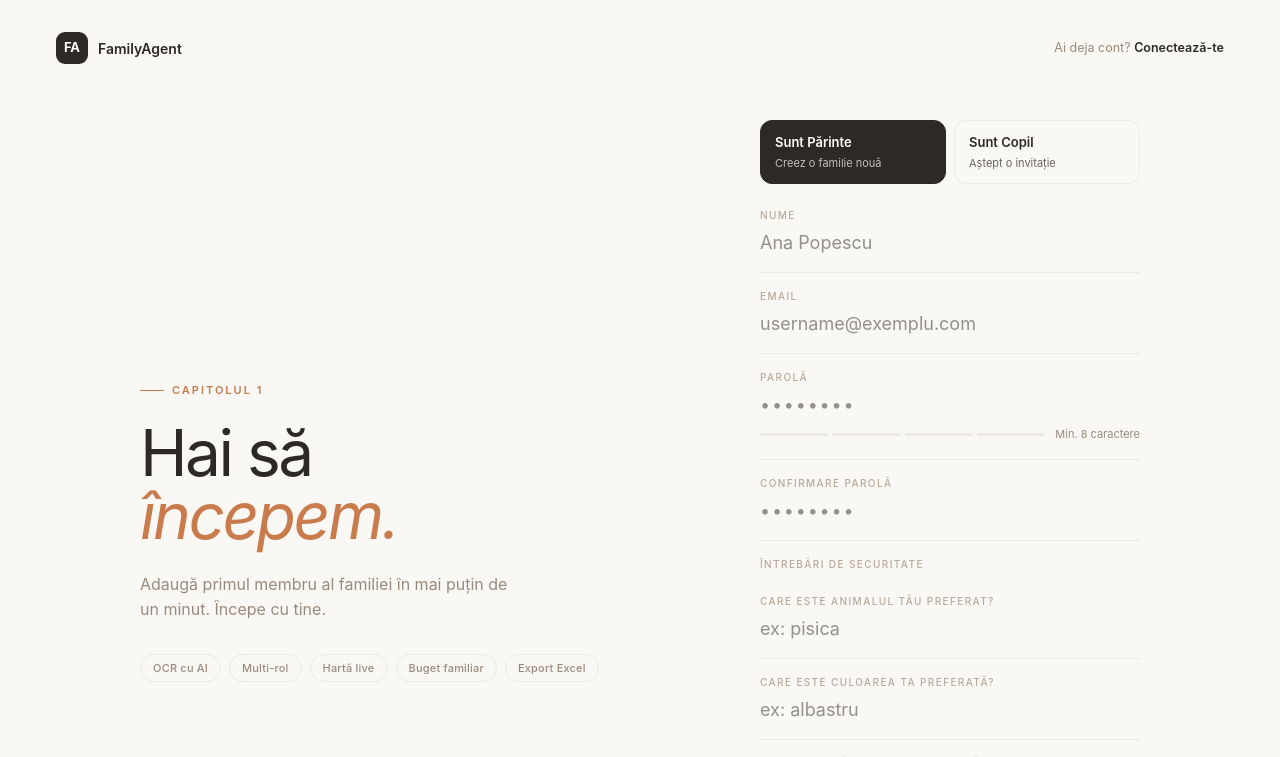
it: RegisterForm - 100% Coverage & Zero Errors › 6. Eroare 409: Email deja existent
Type "Test User" into the field with placeholder "Ana Popescu" at (950, 242), box [760,229,1140,256]
Type "test@example.com" into the field with placeholder "username@exemplu.com" at (950, 324), box [760,310,1140,337]
Type "Password123!" into the 1st password field with placeholder "••••••••" at (950, 404), box [760,391,1140,418]
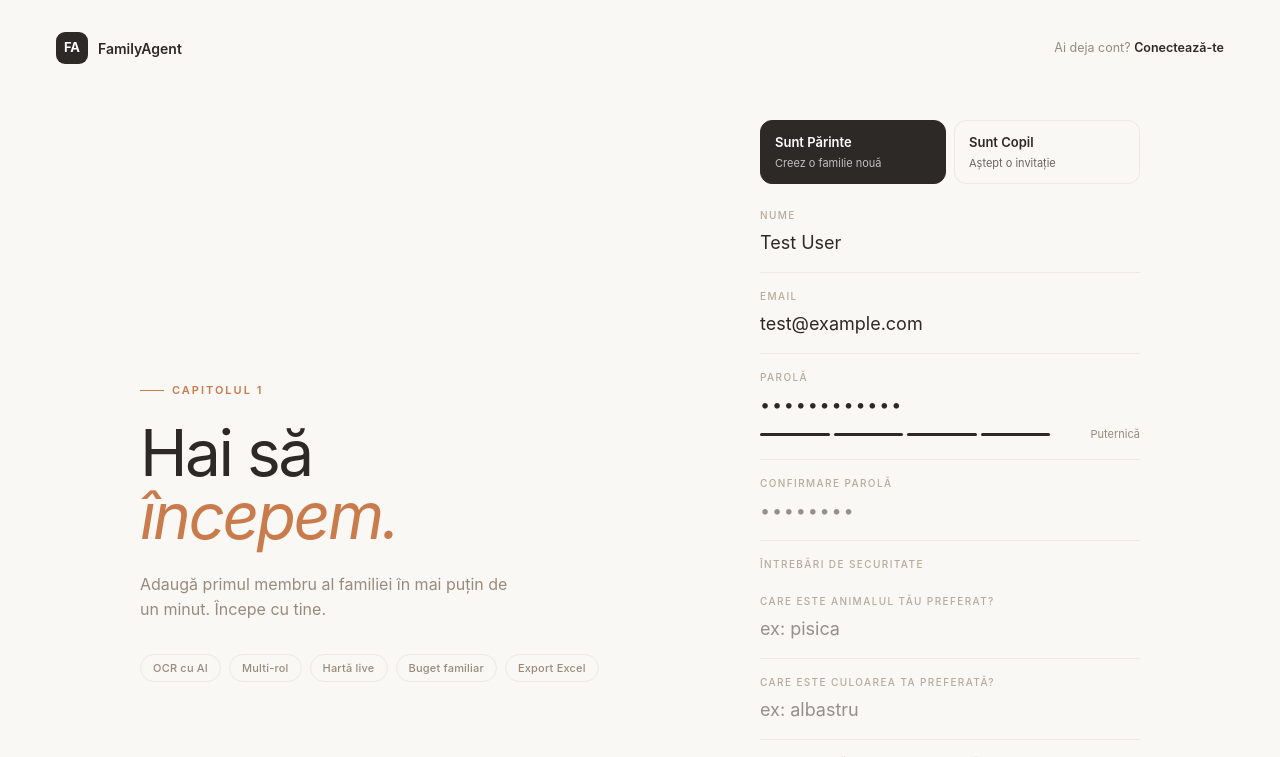
Type "Password123!" into the password field with placeholder "••••••••" at (950, 510), box [760,496,1140,524]
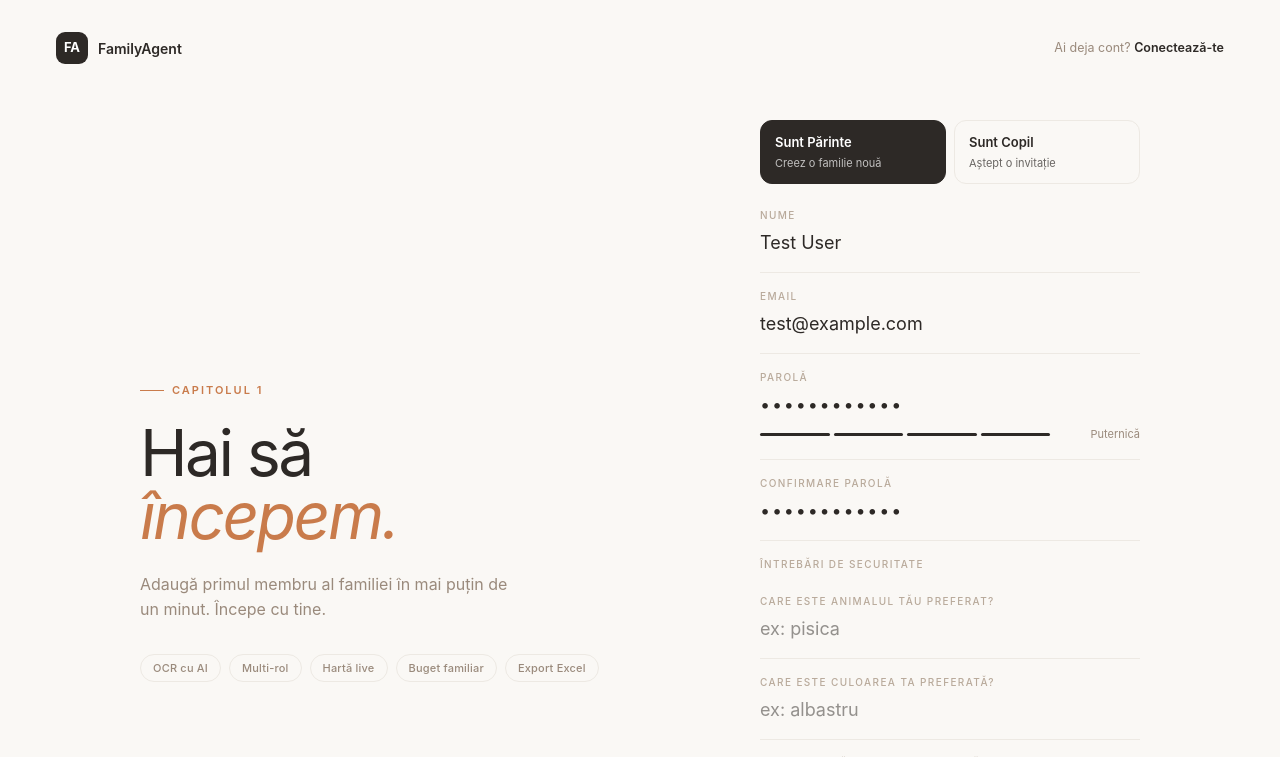
Type "Pisica" into the field with placeholder "ex: pisica" at (950, 628), box [760,614,1140,642]
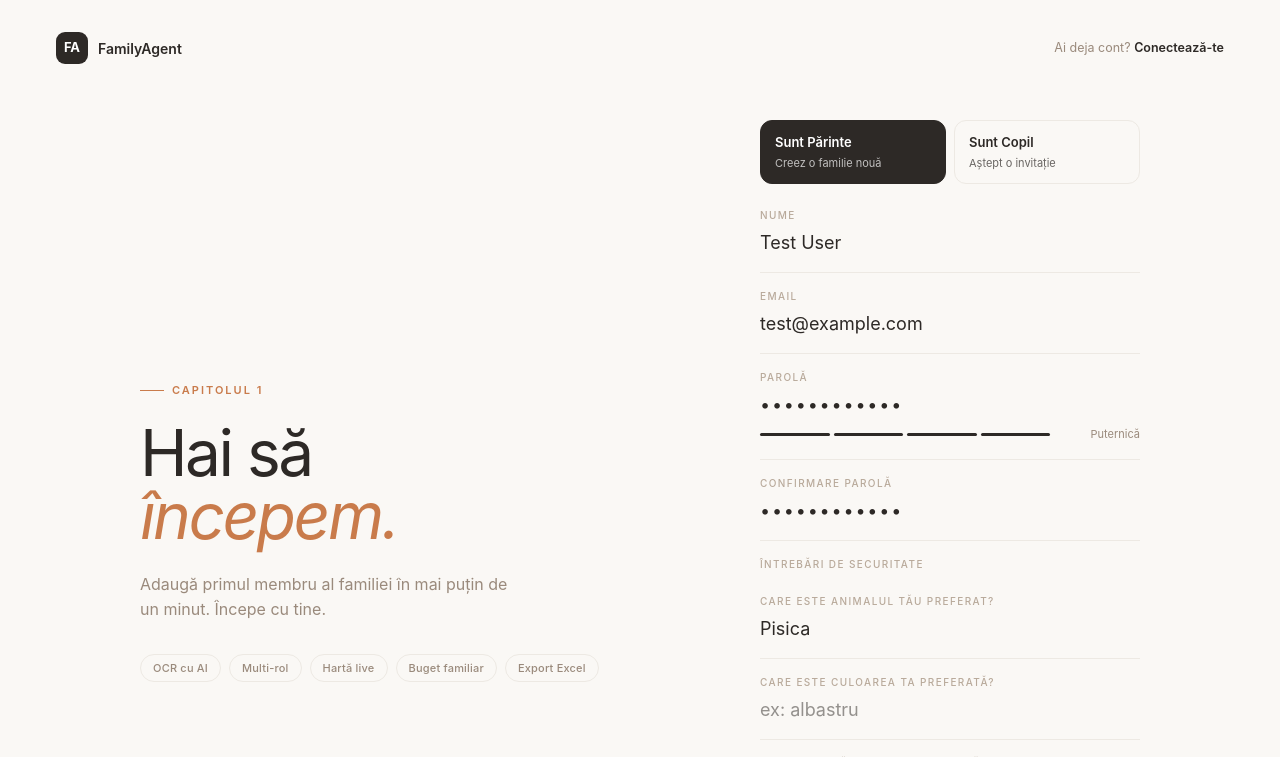
Type "Albastru" into the field with placeholder "ex: albastru" at (950, 709), box [760,696,1140,722]
(page scrolled)
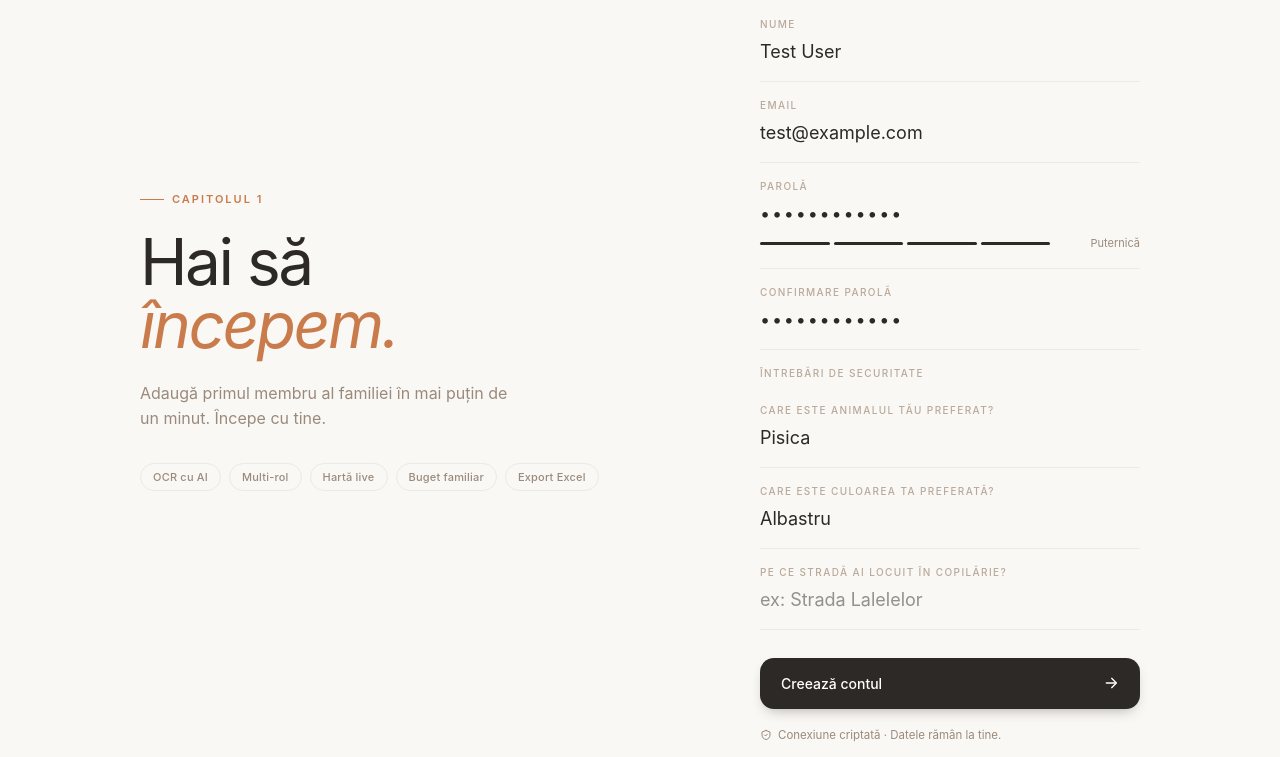
Type "Strada Lalelelor" into the field with placeholder "ex: Strada Lalelelor" at (950, 599), box [760,586,1140,612]
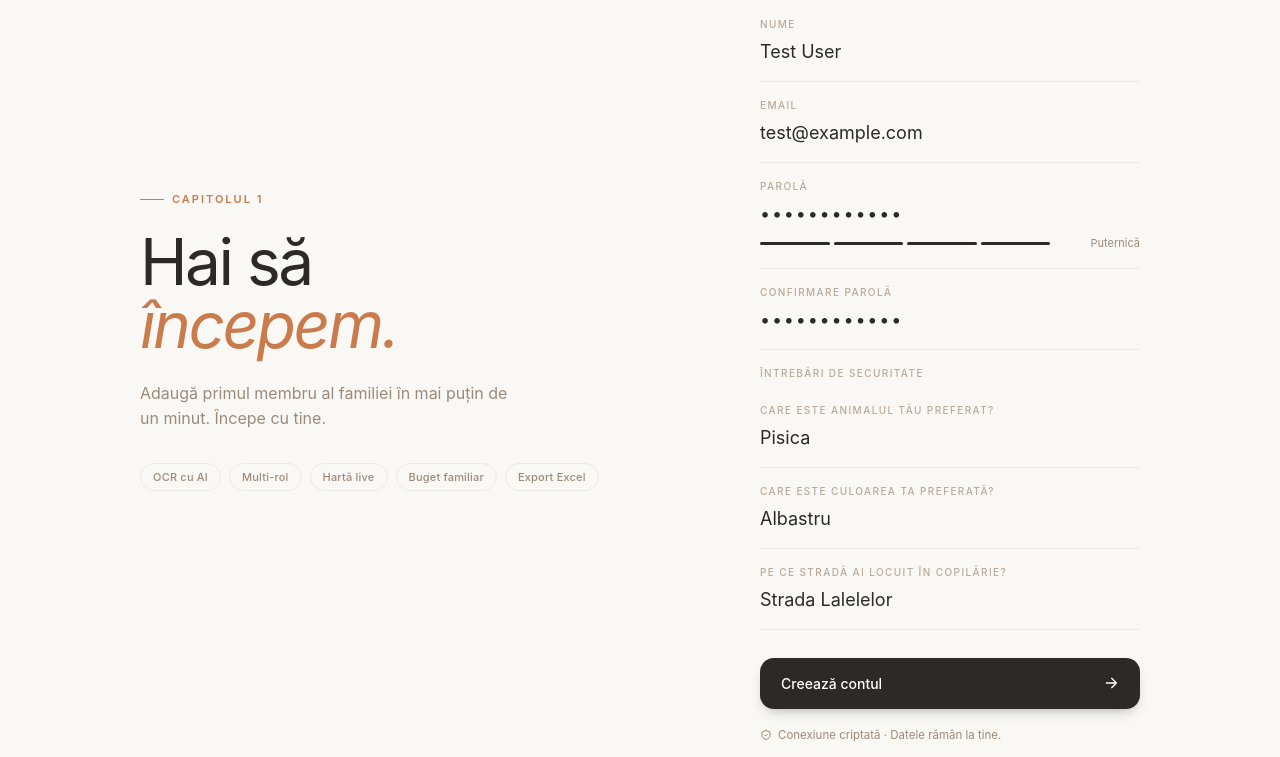
Submit the form from the button "Creează contul", box [760,658,1140,708]
(page scrolled)
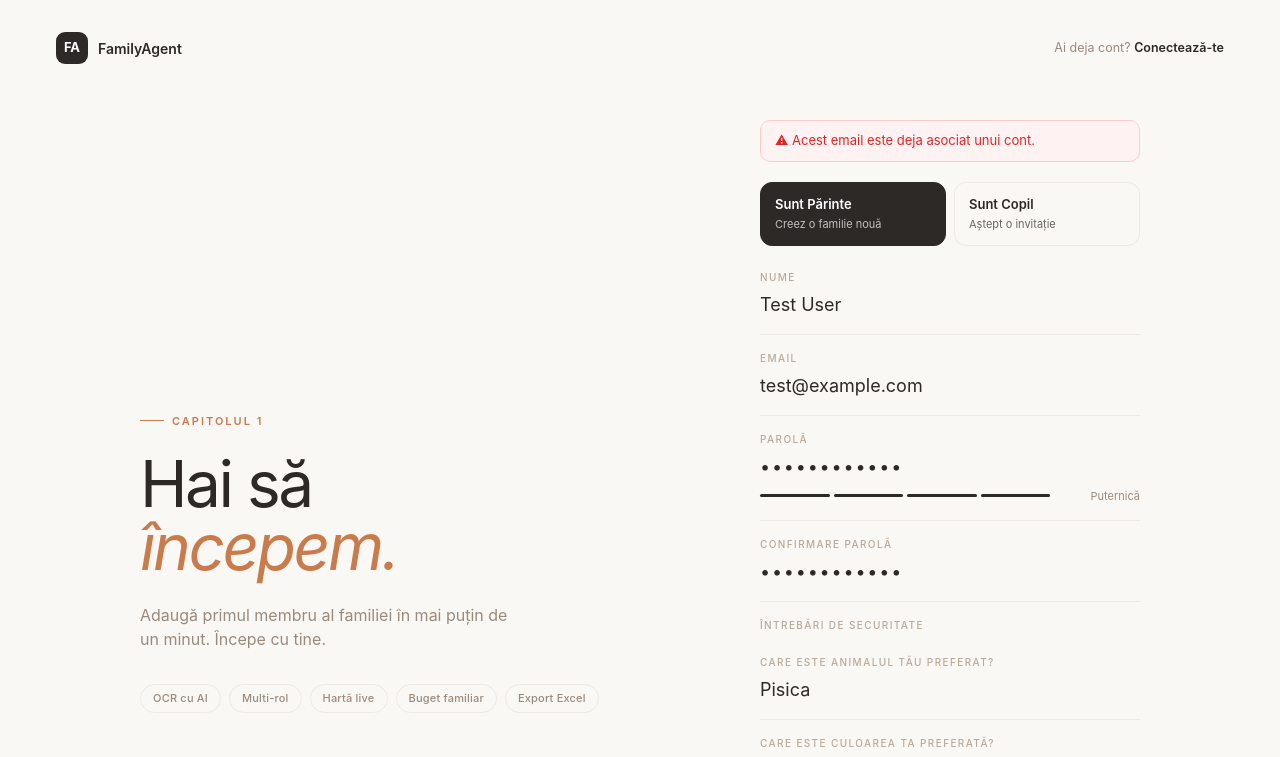
Expected: the text "⚠ Acest email este deja asociat unui cont." is shown, [760,120,1140,162]
